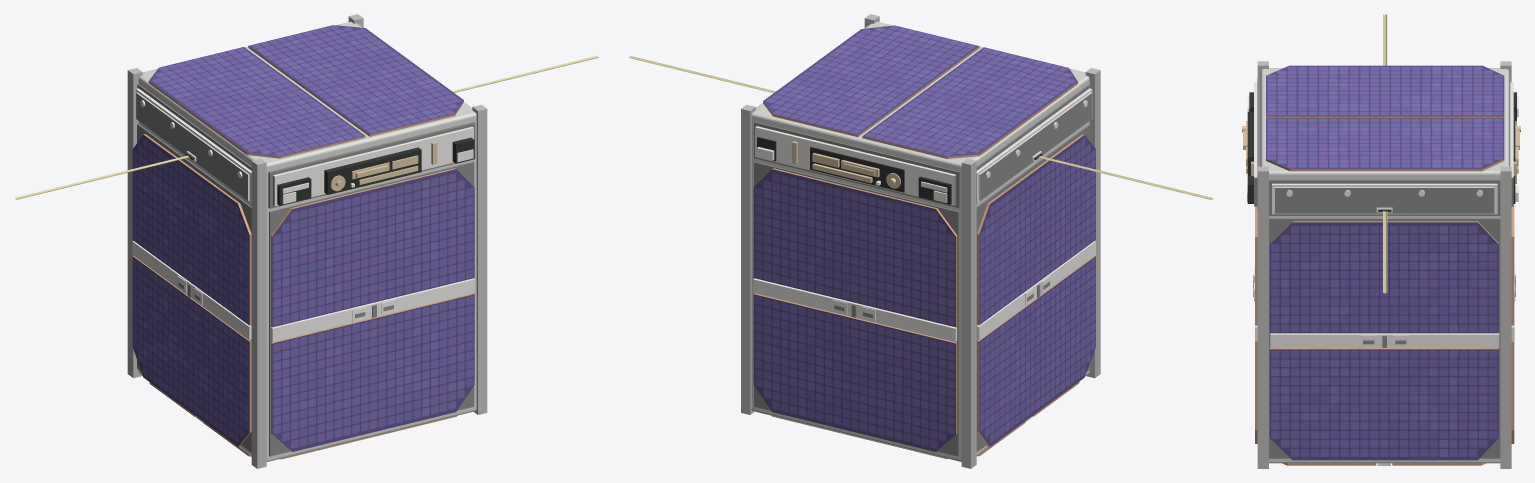
The model's file is CubeSat_-_1_RU_Generic.opt.glb.
3 renders of one model, left to right at view 1: azimuth 30°, elevation 25°; view 2: azimuth 150°, elevation 25°; view 3: azimuth 270°, elevation 25°, orthographic. The views are drawn at different scales.
Parts seen in each view (by area): view 1: Layer_0; view 2: Layer_0; view 3: Layer_0.
Boxes of the visible parts, x1=… form: Layer_0: x1=14, y1=14, x2=598, y2=468; Layer_0: x1=628, y1=14, x2=1213, y2=468; Layer_0: x1=1242, y1=14, x2=1520, y2=468.
Size of the model in its own units: 5.19 by 2.6 by 2.2.
Materials: 2 (2 with a texture image).
